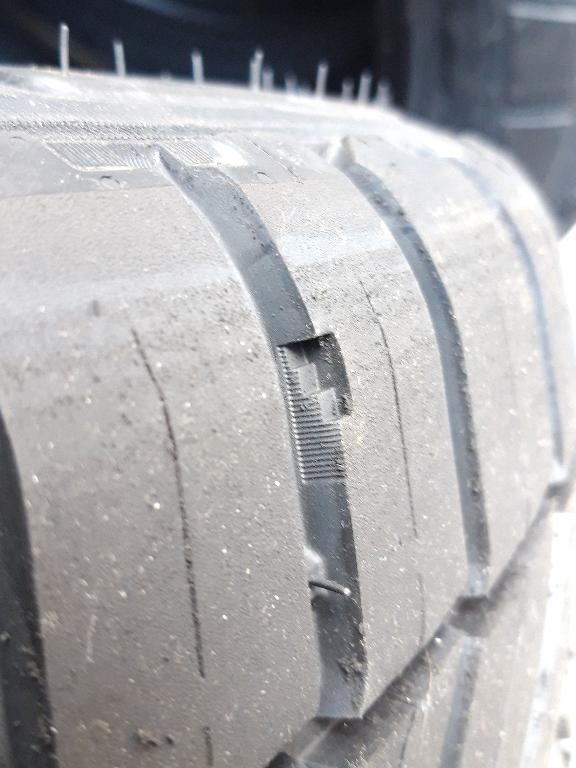temoin:75: (271, 326, 361, 452)
